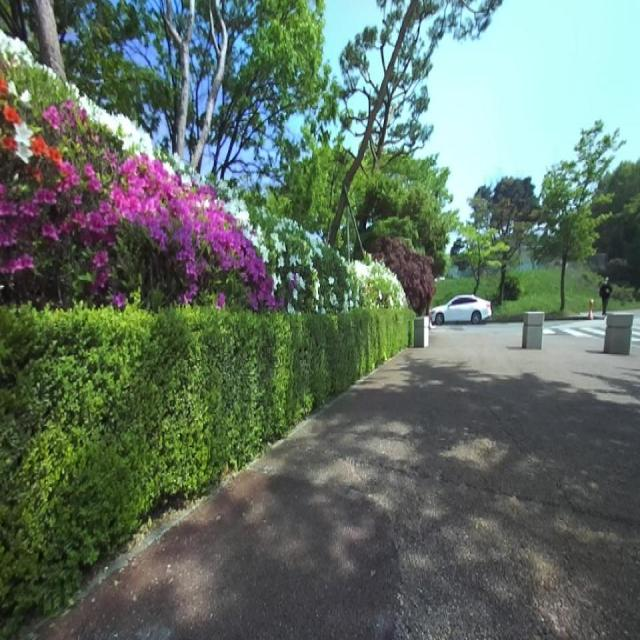sidewalk: (38, 330, 640, 639)
